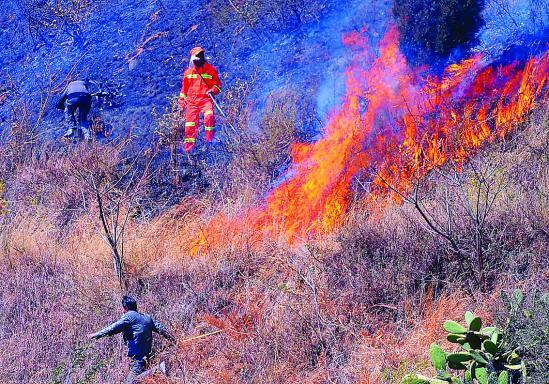fire: (164, 36, 547, 263)
